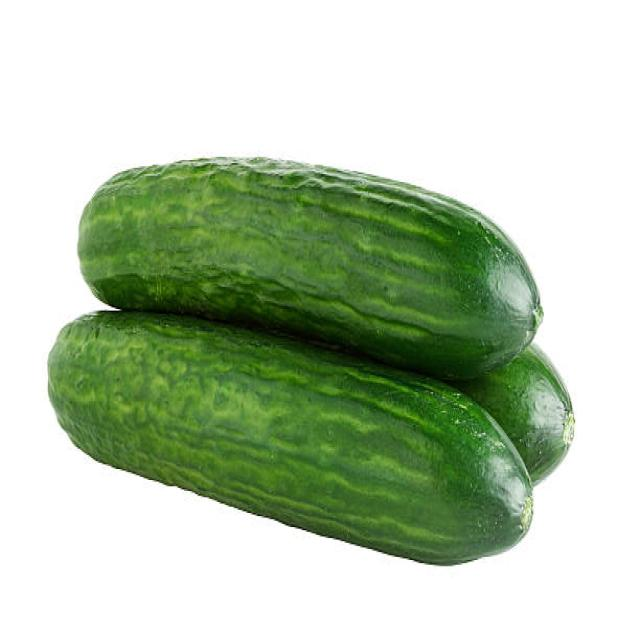cucumber: (47, 156, 574, 568)
